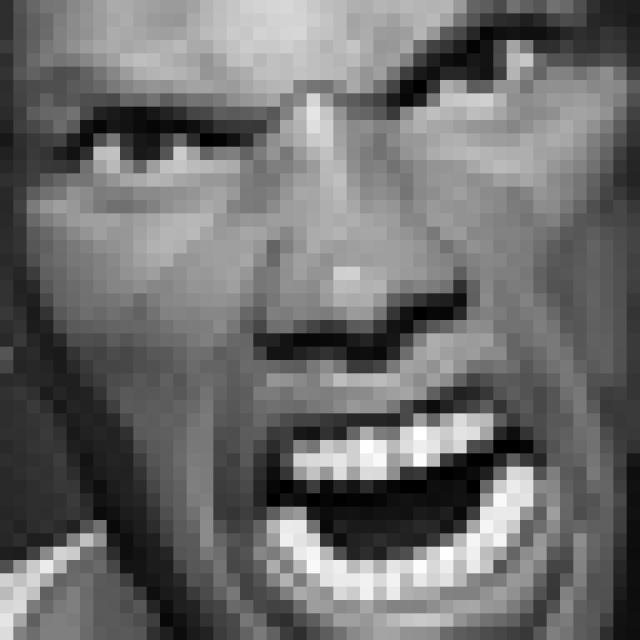angry: (47, 0, 570, 640)
